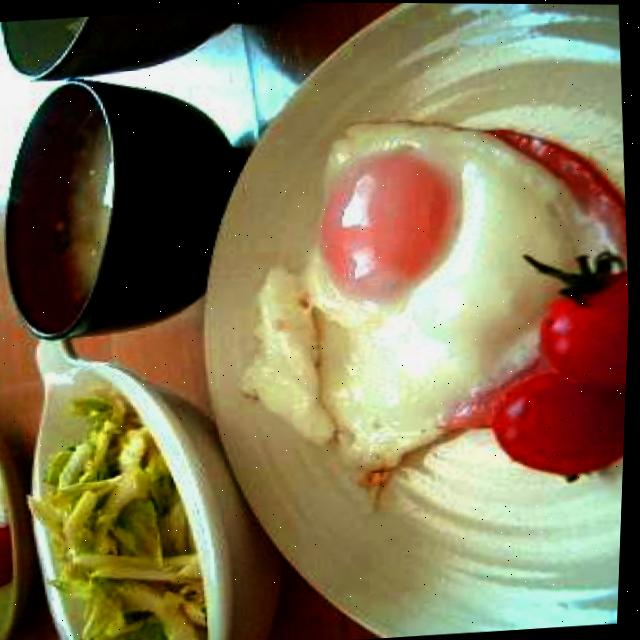鸡蛋料理: (237, 75, 625, 501)
